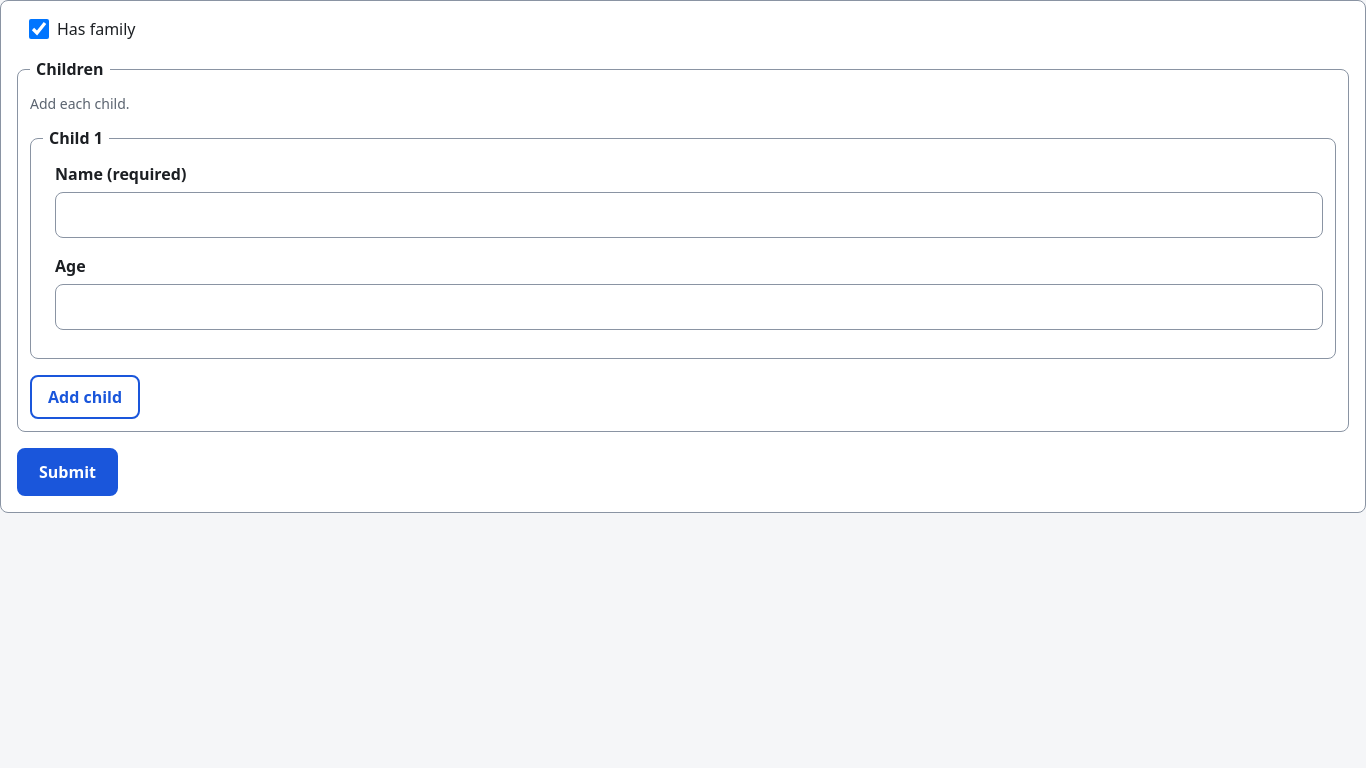
Test case: Form: a group that repeats › keeps the answers of the other items when one is removed, and numbers them again
Click the button "Add child". click: (85, 397)
box: [30, 375, 140, 419]
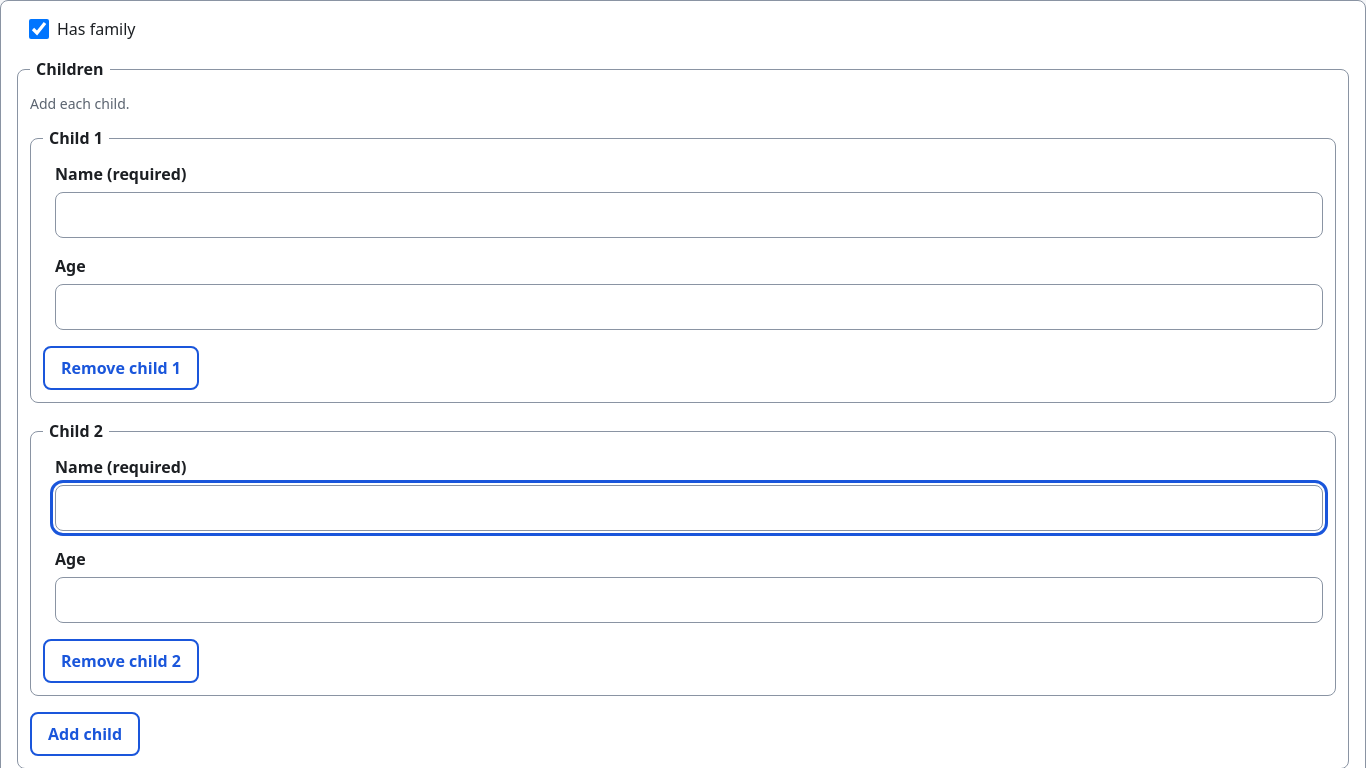
Click the button "Add child". click: (85, 734)
box: [30, 712, 140, 756]
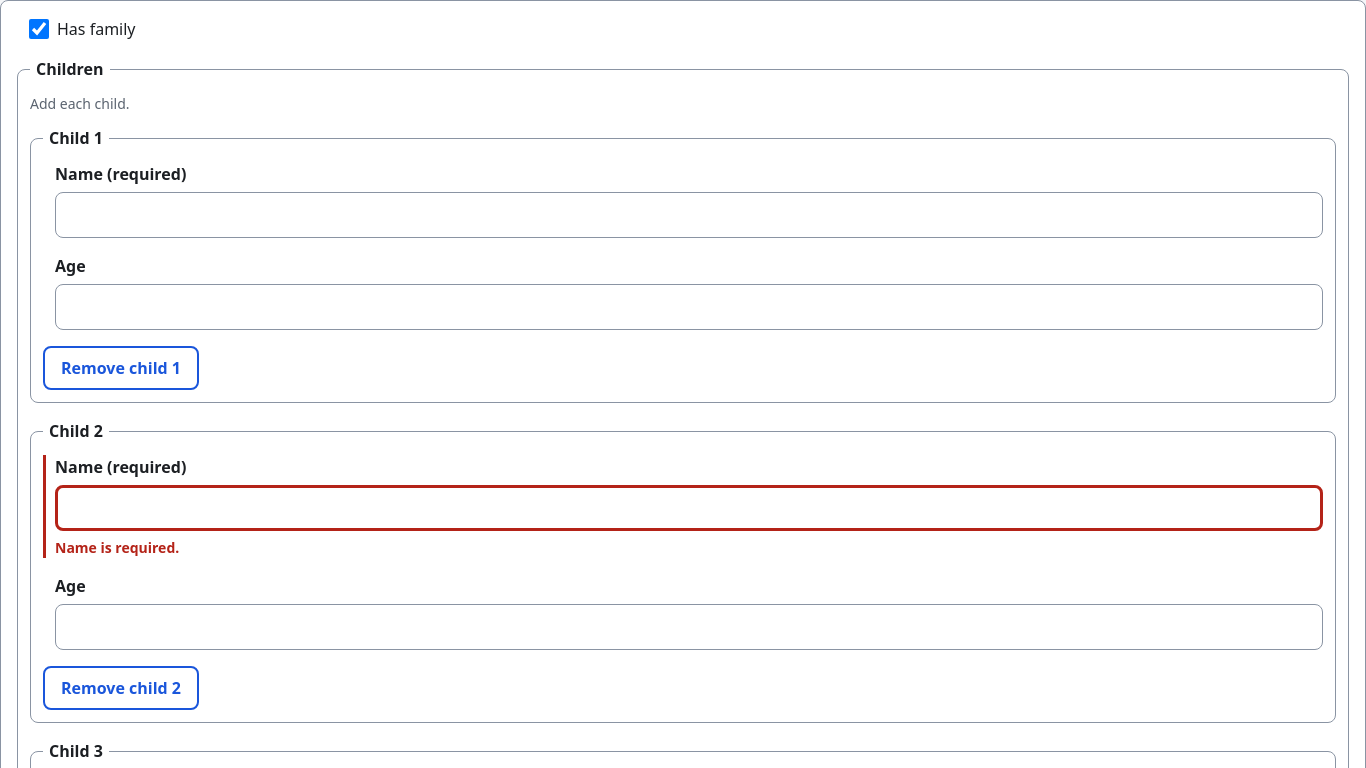
Type "Ravi" into the 1st field labelled "Name (required)". click: (689, 215)
box: [55, 192, 1323, 238]
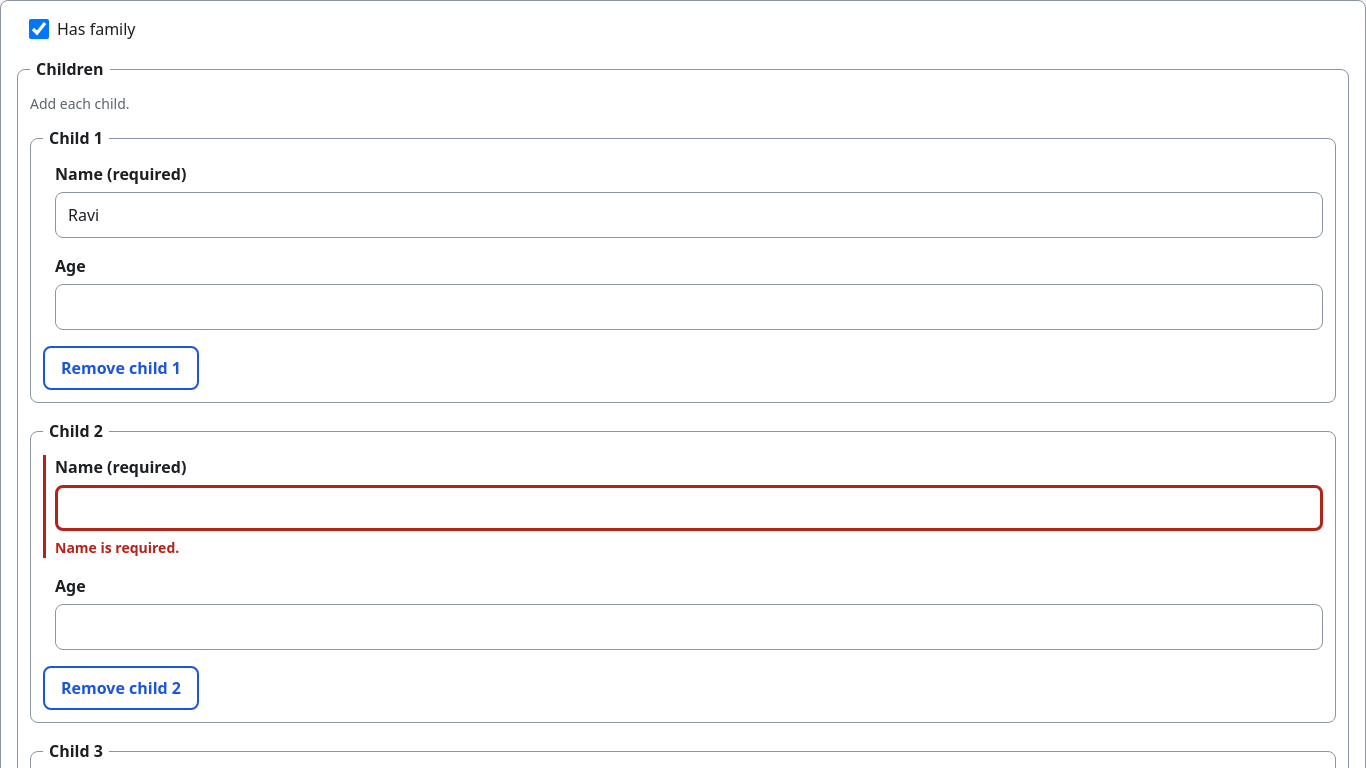
Type "Meena" into the 2nd field labelled "Name". click: (689, 508)
box: [55, 485, 1323, 531]
(page scrolled)
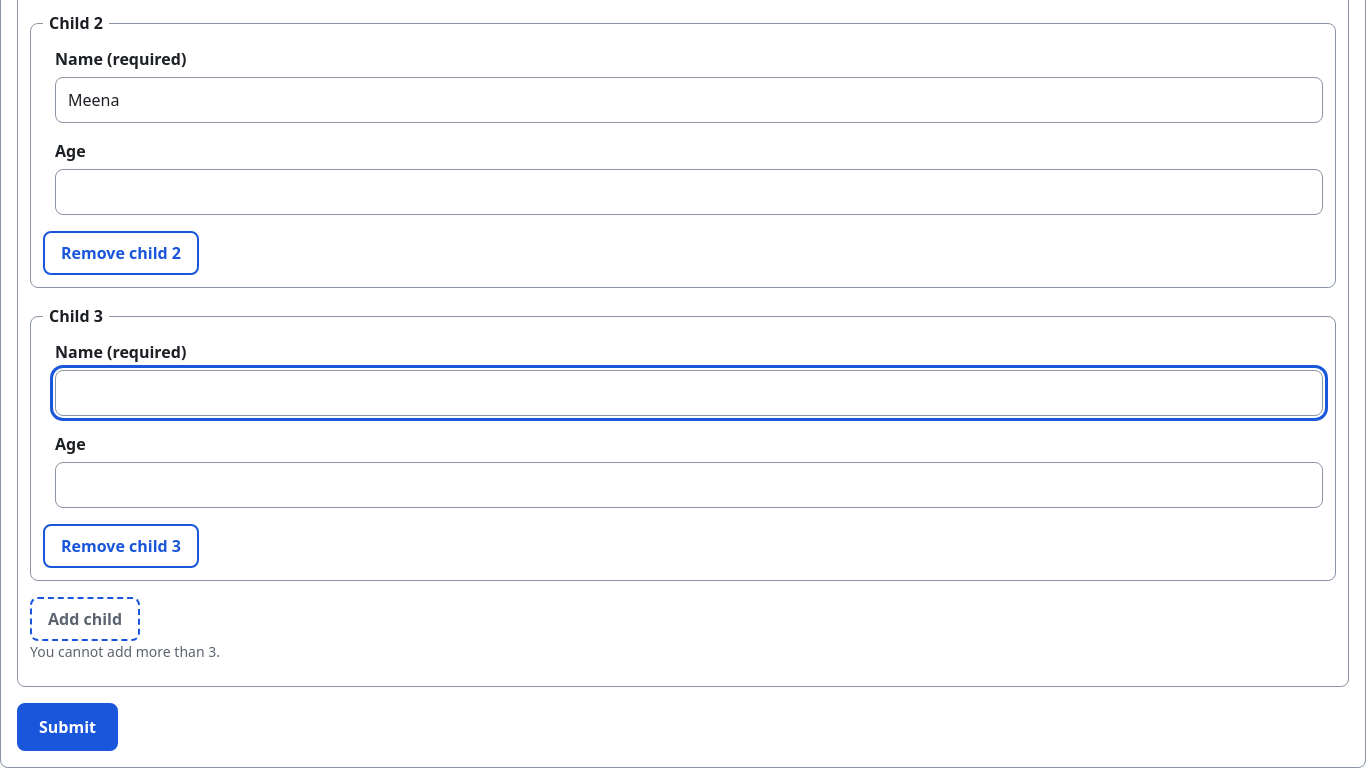
Type "Kiran" into the 2nd field labelled "Name". click: (689, 393)
box: [55, 370, 1323, 416]
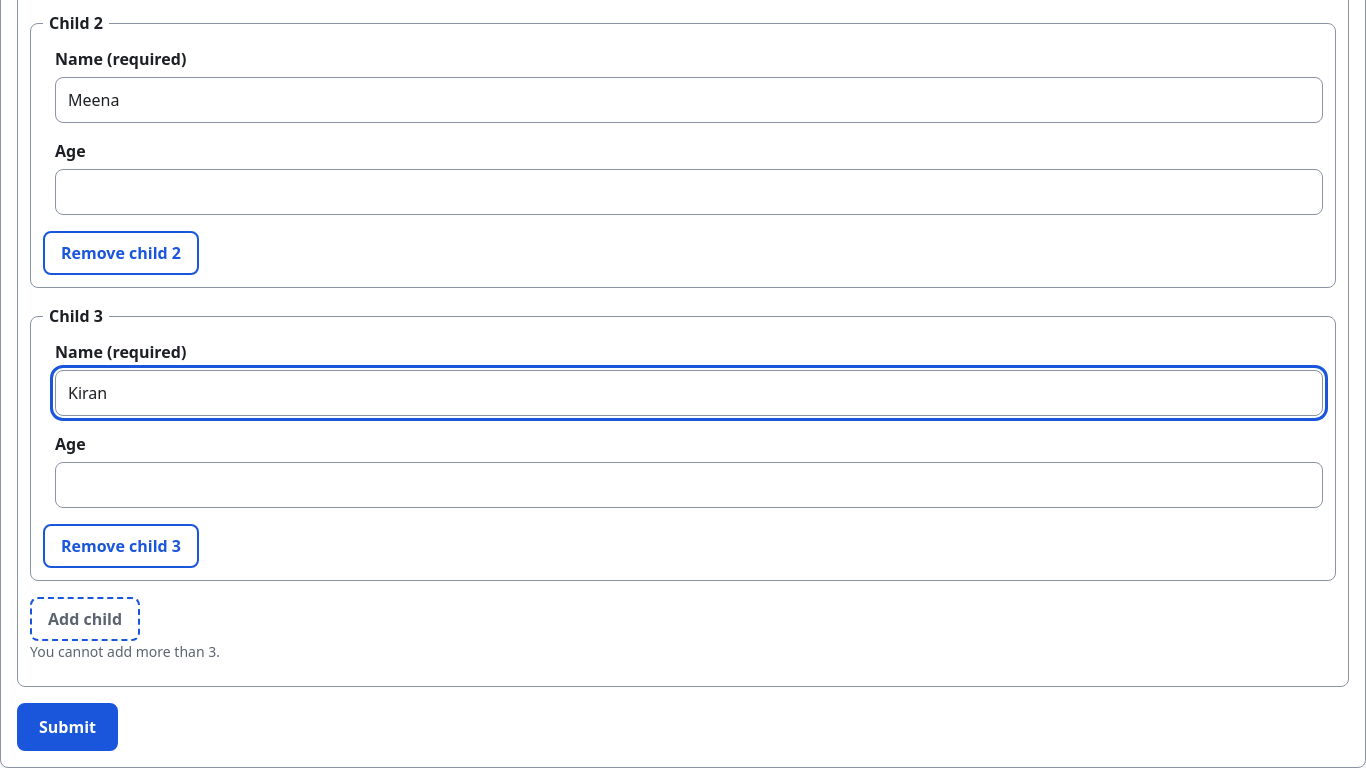
Click the button "Remove child 2". click: (121, 253)
box: [43, 231, 199, 275]
(page scrolled)
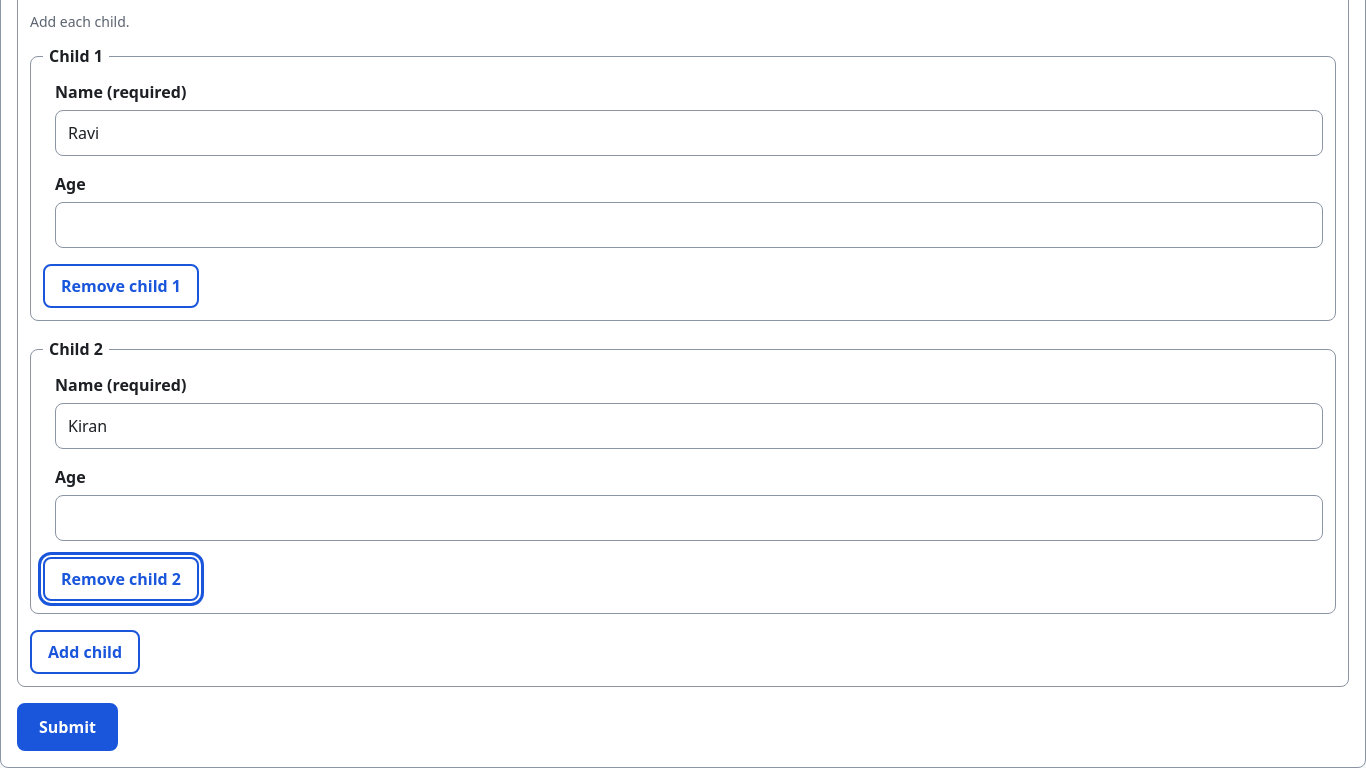
Check: the text "Child 3" is gone
